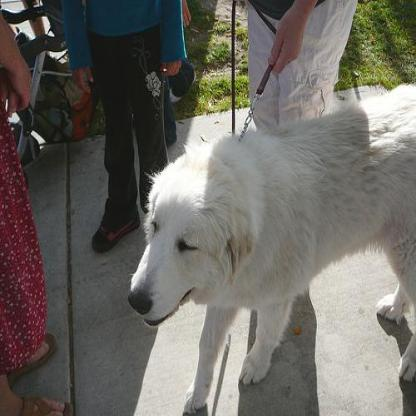Great_Pyrenees: (128, 82, 414, 413)
